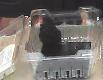berry: (39, 23, 60, 44)
